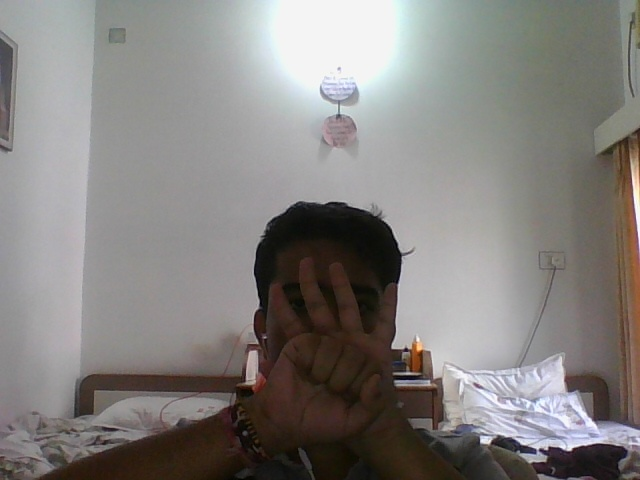coronavirus: (252, 251, 402, 452)
